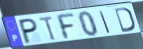0: (76, 11, 100, 38)
D: (113, 6, 136, 33)
F: (54, 13, 76, 41)
I: (99, 10, 112, 34)
P: (18, 17, 38, 46)
T: (38, 15, 58, 42)
